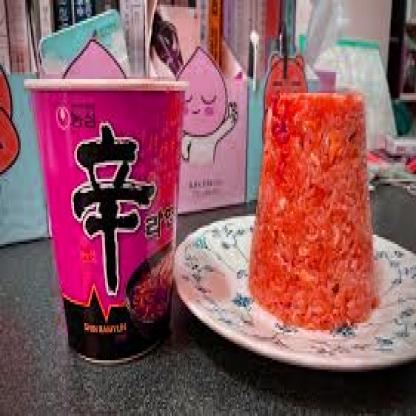Ramen: (22, 69, 194, 364)
